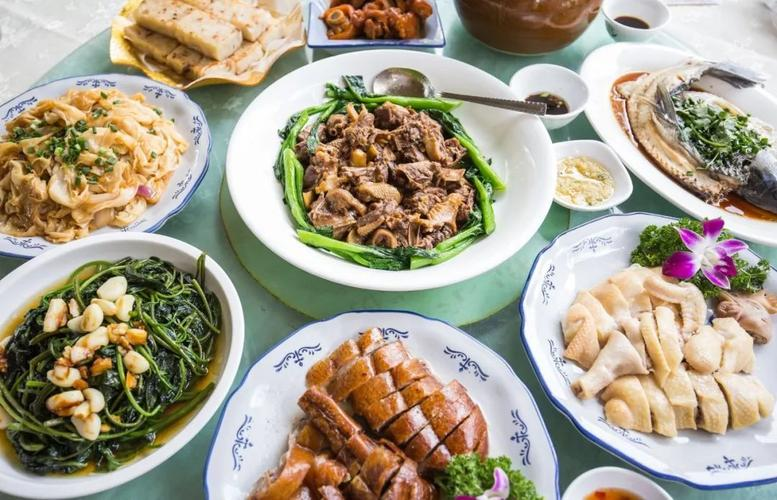food: (0, 215, 242, 487), (250, 57, 529, 287), (206, 311, 532, 494), (525, 229, 767, 445), (0, 62, 204, 241), (270, 56, 587, 128), (613, 61, 769, 200), (106, 0, 306, 90), (547, 133, 629, 213), (308, 0, 436, 46)
